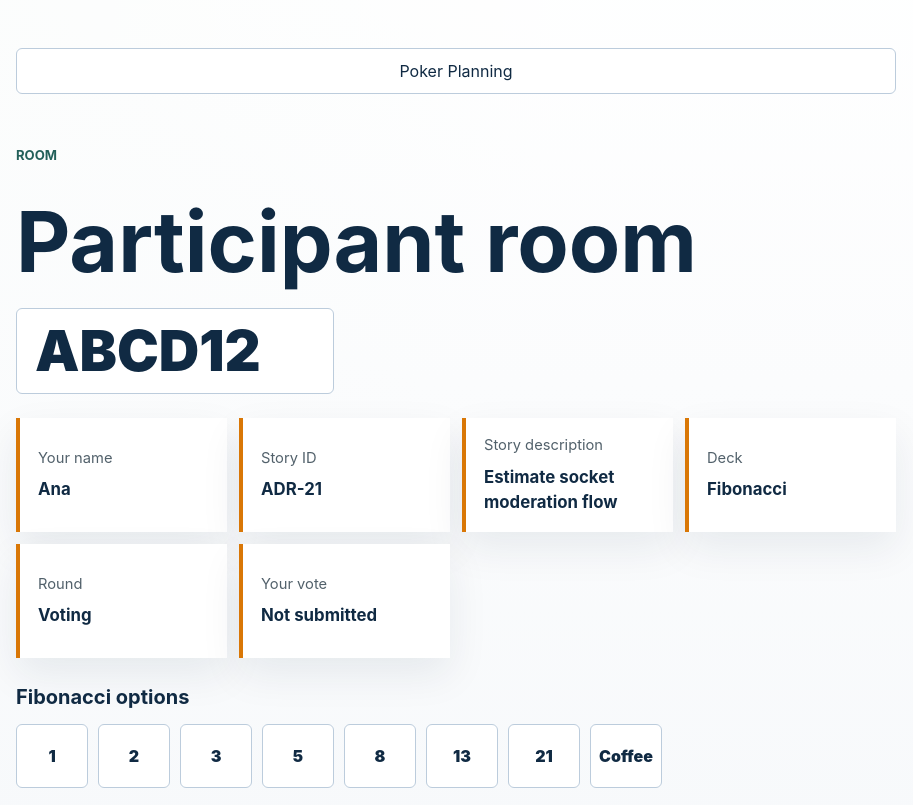
Scenario: ParticipantSessionView › submits a token-backed vote command and shows submitted state from the server snapshot
The image size is (913, 805).
Click the button named "Submit vote 8".
click(380, 756)  # box [344,724,416,788]
(page scrolled)
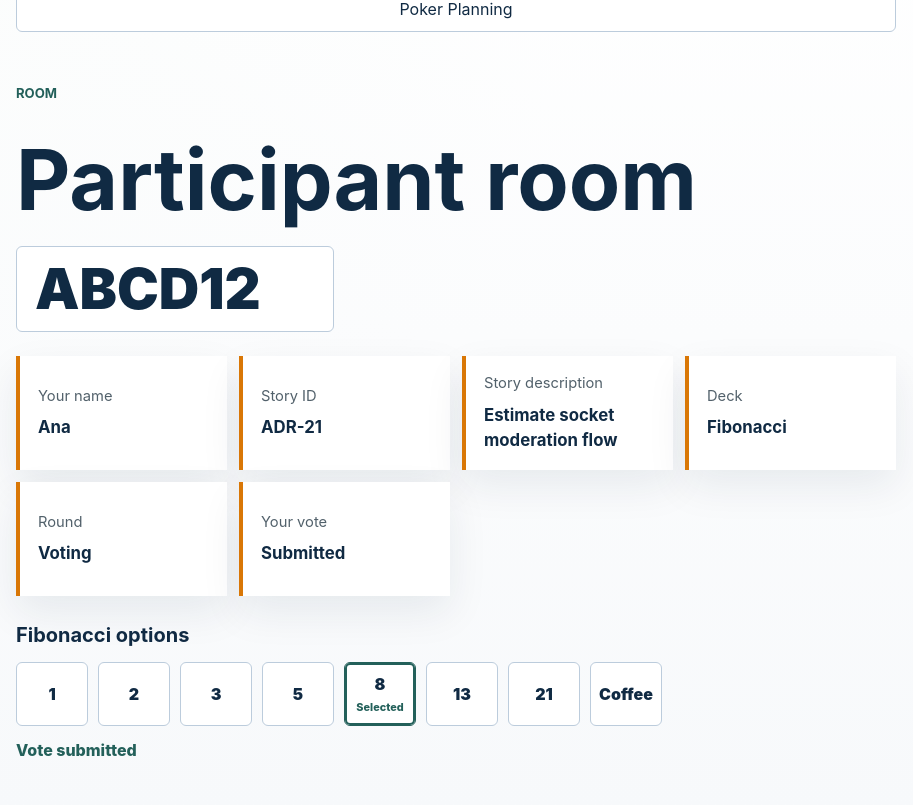
Expected: the text "Submitted" is shown, [261,543,345,563]
Result: the text "Vote submitted" is shown at [16,740,137,760]
